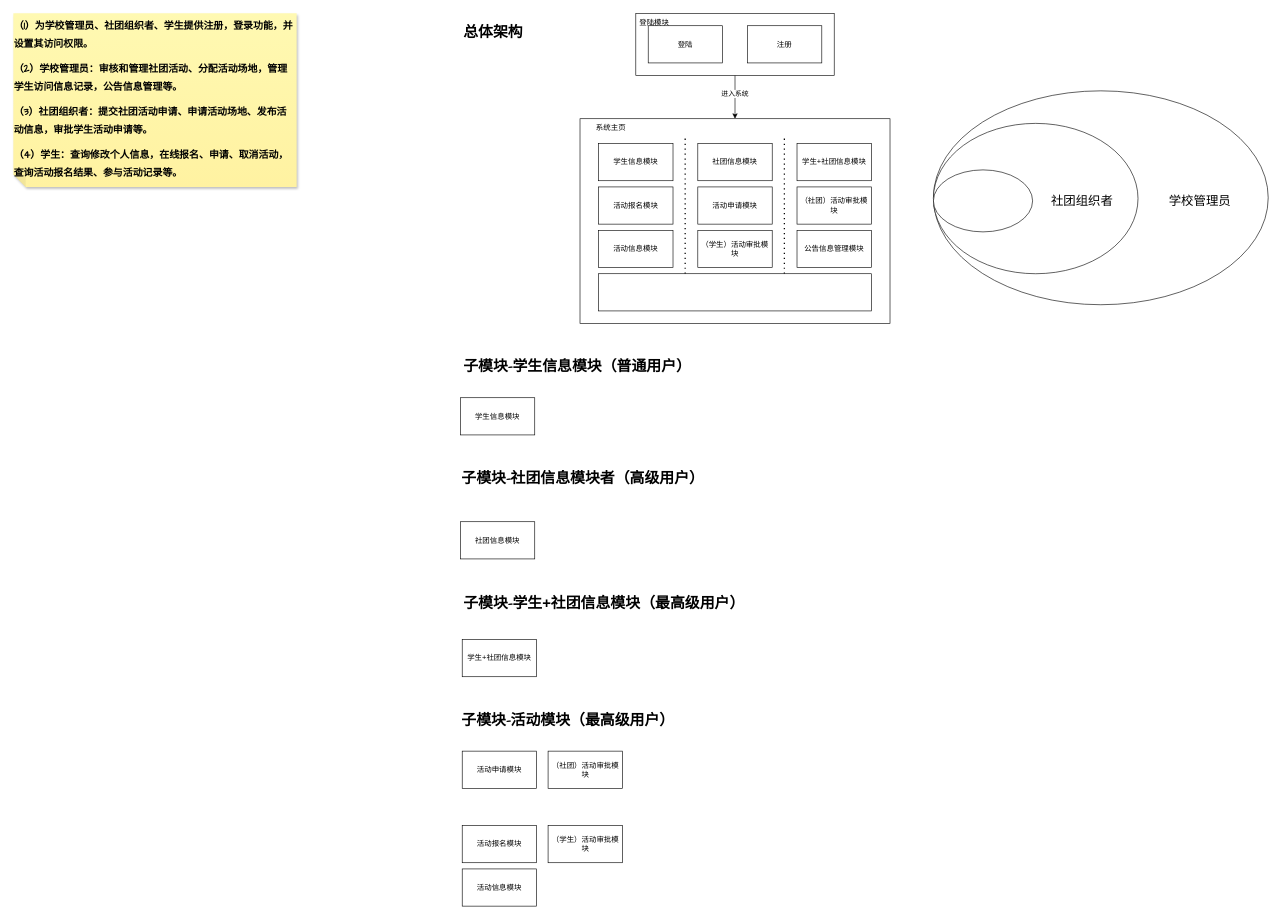
This 1279x917 diagram has some shape labels left out. Here are the shapes that lost their labels. From the top down, the centre of each, then its label:
At [983,200]: "学生".
At [734,292]: "公告信息展示模块".
